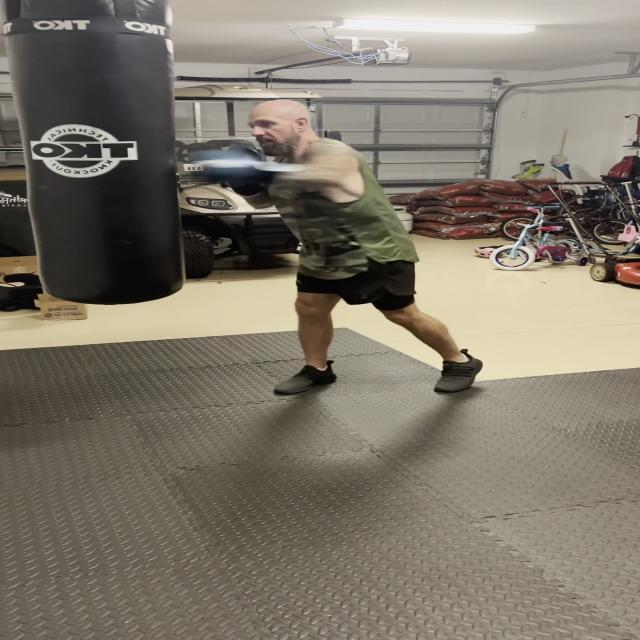bag: (22, 3, 186, 309)
cross: (156, 92, 387, 204)
